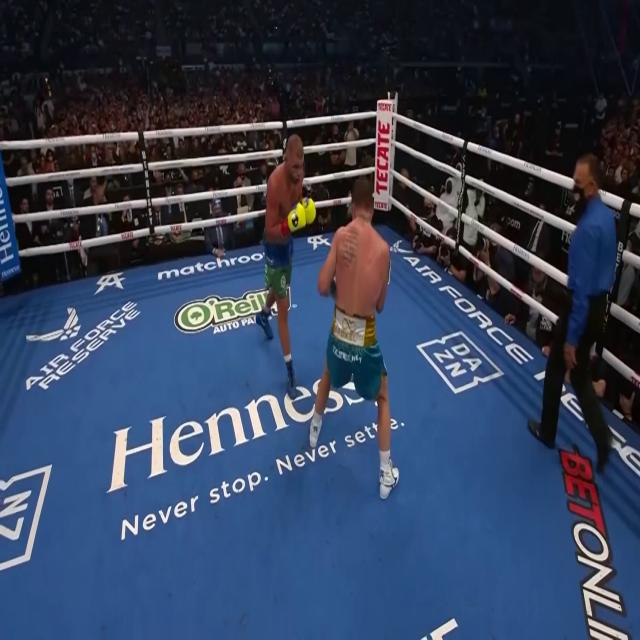boxer_1: (266, 133, 304, 235)
boxer_2: (334, 175, 391, 319)
gloves_1: (280, 196, 316, 235)
gloves_2: (330, 279, 335, 296)
